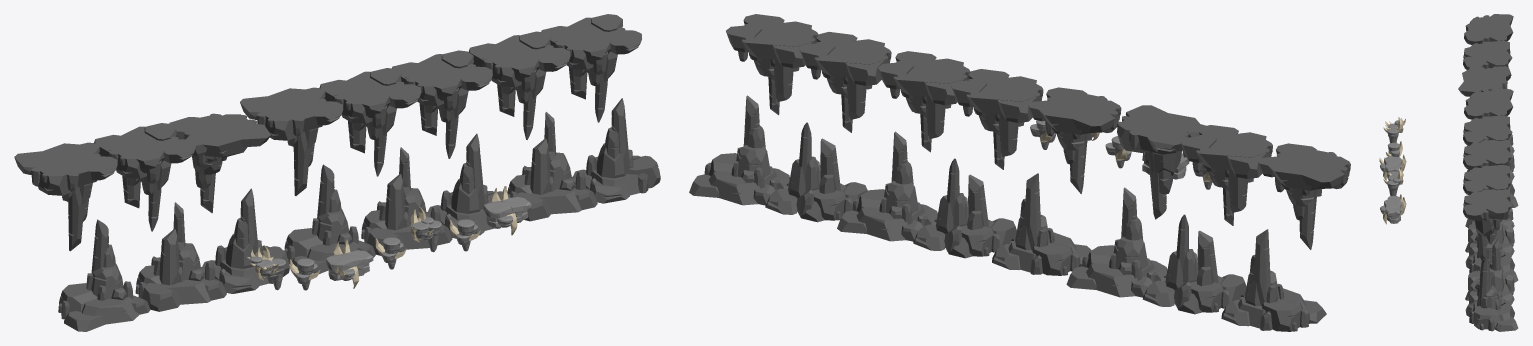
File: ini level 2.fbx
The picture shows the model from 3 angles, left to right: view 1: azimuth 30°, elevation 25°; view 2: azimuth 150°, elevation 25°; view 3: azimuth 270°, elevation 25°; orthographic projection. The views are drawn at different scales.
Visible parts, largest first — view 1: batu gua gede.012, batu gua gede.010, batu gua gede.007, batu gua gede.006, batu gua gede.001, batu gua gede.011, batu gua gede.013, batu gua gede, batu gua gede.009, batu gua gede.014, batu gua gede.008, batu gua gede.015 (+11 smaller); view 2: batu gua gede.004, batu gua gede.001, batu gua gede.014, batu gua gede.005, batu gua gede.015, batu gua gede.002, batu gua gede.012, batu gua gede.010, batu gua gede.007, batu gua gede.011, batu gua gede.013, batu gua gede.008 (+4 smaller); view 3: batu gua gede.013, batu gua gede.015, batu gua gede.014, batu gua gede.006, batu gua gede.009, batu gua gede.011, batu gua gede.008, batu gua gede.007, batu gua gede.010, batu gua gede.012, batu gua gede.004, batu gua gede.005 (+8 smaller).
Boxes of the visible parts, <box> form: batu gua gede.012: <box>468,31,570,139</box>; batu gua gede.010: <box>319,68,421,176</box>; batu gua gede.007: <box>94,123,195,231</box>; batu gua gede.006: <box>14,142,117,251</box>; batu gua gede.001: <box>135,202,226,311</box>; batu gua gede.011: <box>392,50,492,158</box>; batu gua gede.013: <box>541,14,641,122</box>; batu gua gede: <box>58,219,150,331</box>; batu gua gede.009: <box>240,87,343,195</box>; batu gua gede.014: <box>507,112,597,221</box>; batu gua gede.008: <box>169,113,270,213</box>; batu gua gede.015: <box>573,98,660,203</box>; batu gua gede.004: <box>913,158,1016,258</box>; batu gua gede.001: <box>1142,214,1246,314</box>; batu gua gede.014: <box>765,122,867,222</box>; batu gua gede.005: <box>837,131,937,241</box>; batu gua gede.015: <box>689,95,789,205</box>; batu gua gede.002: <box>1066,187,1167,297</box>; batu gua gede.012: <box>798,32,891,132</box>; batu gua gede.010: <box>950,69,1043,169</box>; batu gua gede.007: <box>1180,125,1272,225</box>; batu gua gede.011: <box>878,51,970,152</box>; batu gua gede.013: <box>726,14,818,115</box>; batu gua gede.008: <box>1117,105,1209,219</box>; batu gua gede.013: <box>1463,189,1512,259</box>; batu gua gede.015: <box>1465,259,1518,331</box>; batu gua gede.014: <box>1465,239,1514,304</box>; batu gua gede.006: <box>1464,14,1513,44</box>; batu gua gede.009: <box>1464,88,1513,119</box>; batu gua gede.011: <box>1463,139,1512,169</box>; batu gua gede.008: <box>1458,65,1511,96</box>; batu gua gede.007: <box>1463,40,1512,70</box>; batu gua gede.010: <box>1463,115,1512,145</box>; batu gua gede.012: <box>1463,164,1512,194</box>; batu gua gede.004: <box>1465,221,1514,256</box>; batu gua gede.005: <box>1465,236,1518,282</box>.
Bounding box in the file's own units: 7986 × 1955 × 2239.
